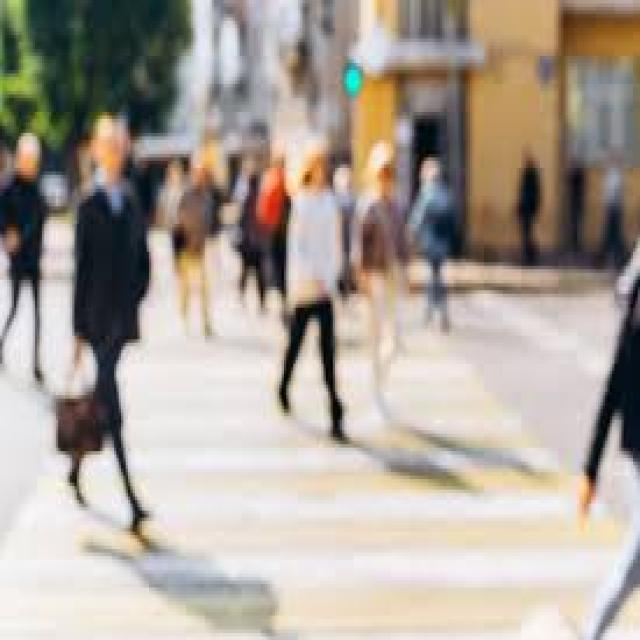Pedestrians: (70, 108, 151, 535), (279, 150, 349, 438)
